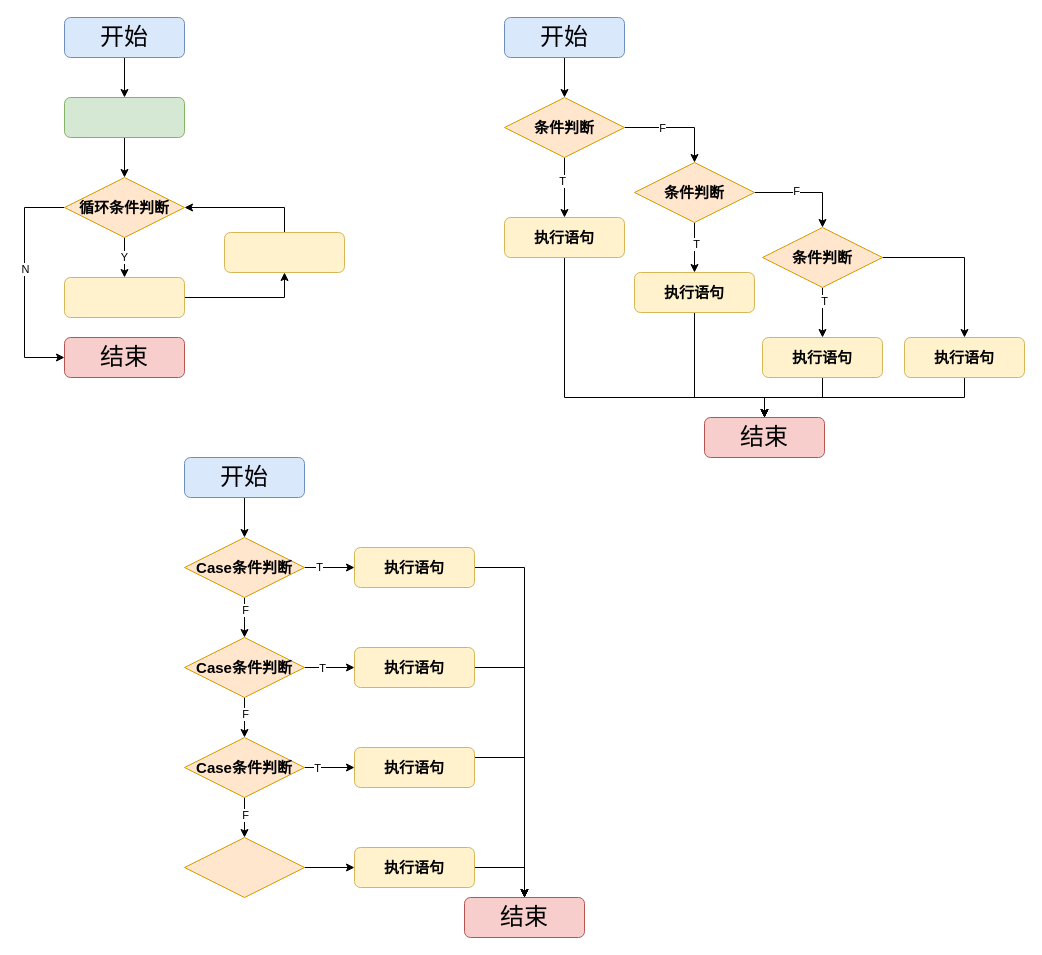
Some shapes in this 1042 by 955 pixel diagram are drawn without their labels. Here are the shapes that lost their labels. From the top down, the centre of each, then its label:
At pixel 124 117: "初始化条件变量".
At pixel 284 252: "改变循环条件".
At pixel 124 297: "循环体".
At pixel 244 867: "Default条件".
